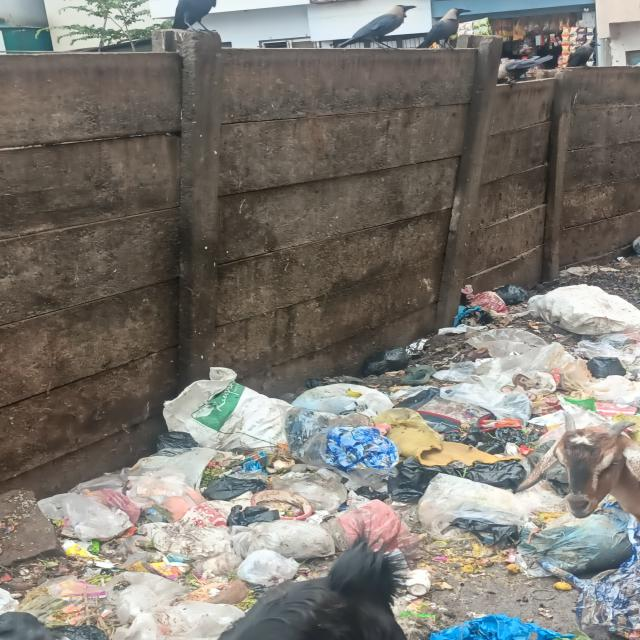garbage: (29, 396, 590, 632), (354, 250, 640, 426)
